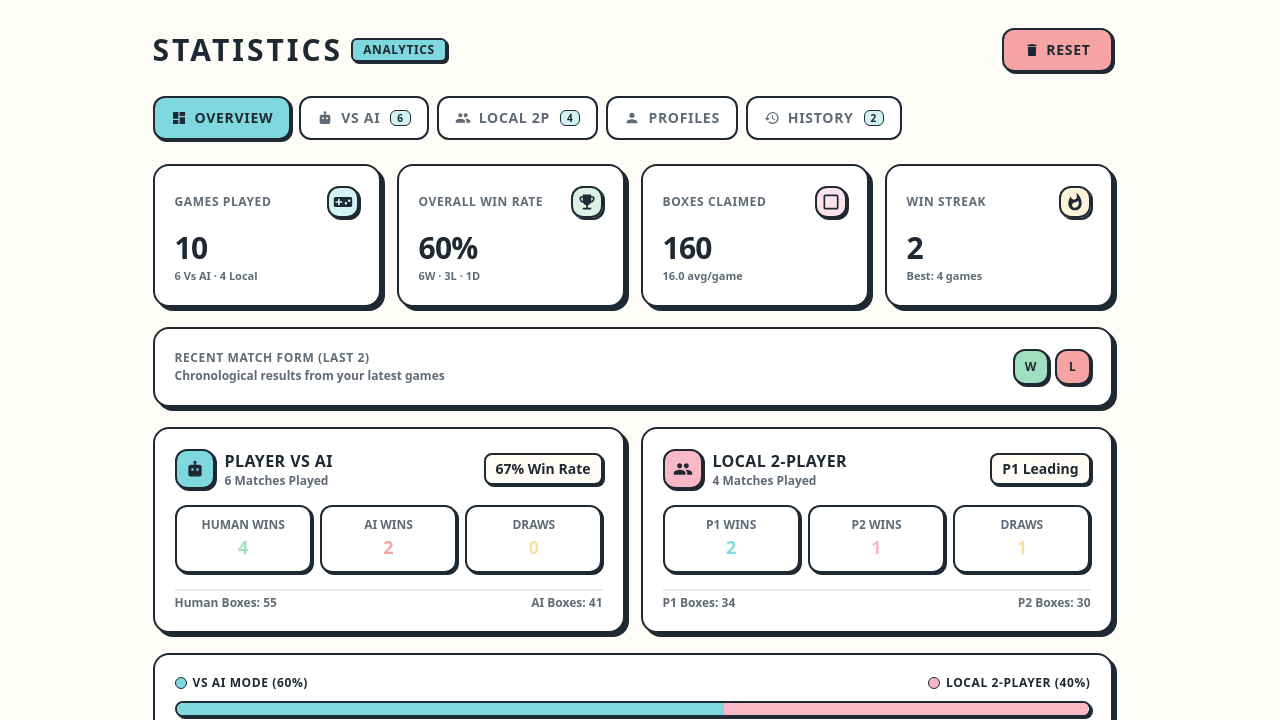
Scenario: StatisticsScreen Component › switches to Vs AI tab and shows difficulty breakdown
The width and height of the screenshot is (1280, 720).
Click the tab "Vs AI 6" at point(364, 118), box [299,96,429,140]
(page scrolled)
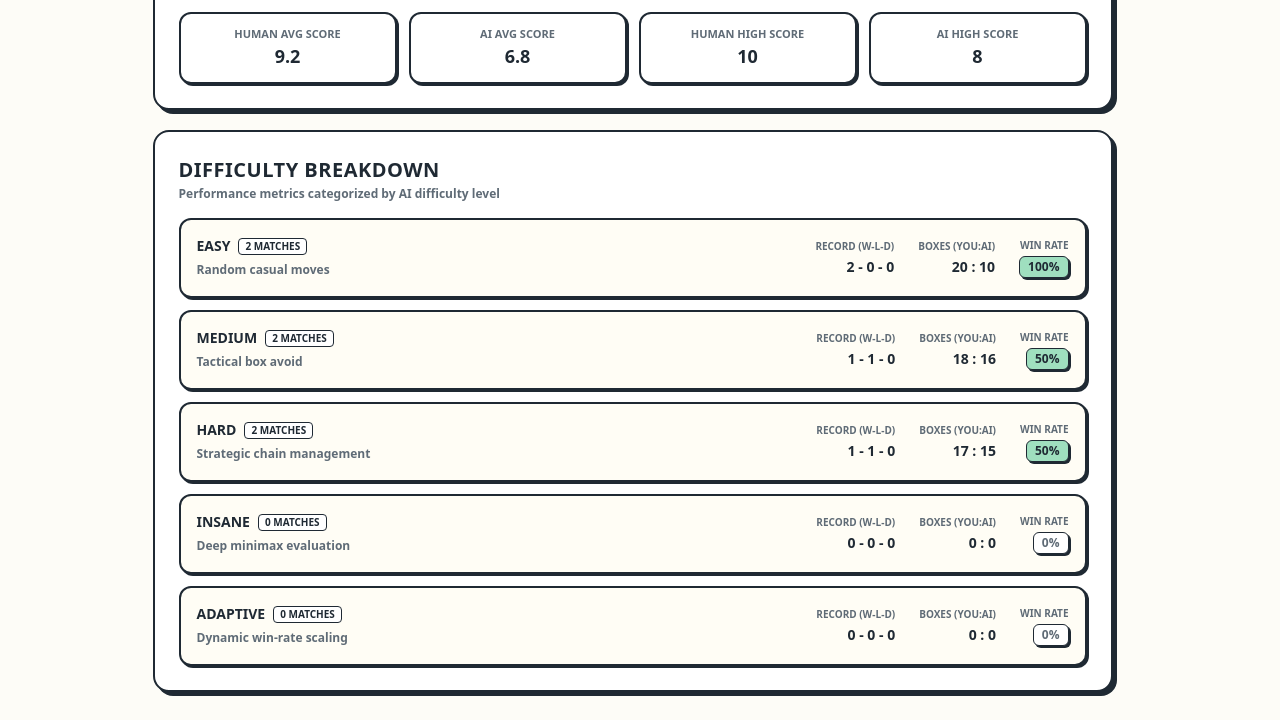
Expected: the heading "Difficulty Breakdown" is shown, [178,156,440,183]
Expected: the text "Easy" is shown, [196,236,230,256]
Expected: the text "Medium" is shown, [196,328,257,348]
